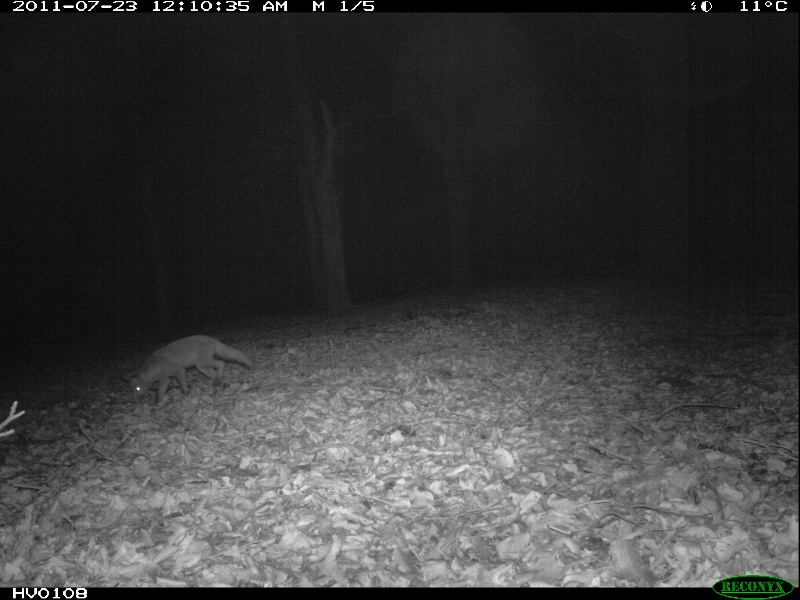fox: (126, 329, 258, 412)
